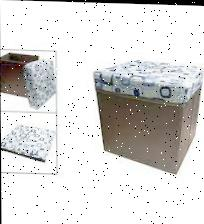cube: (96, 57, 204, 175)
